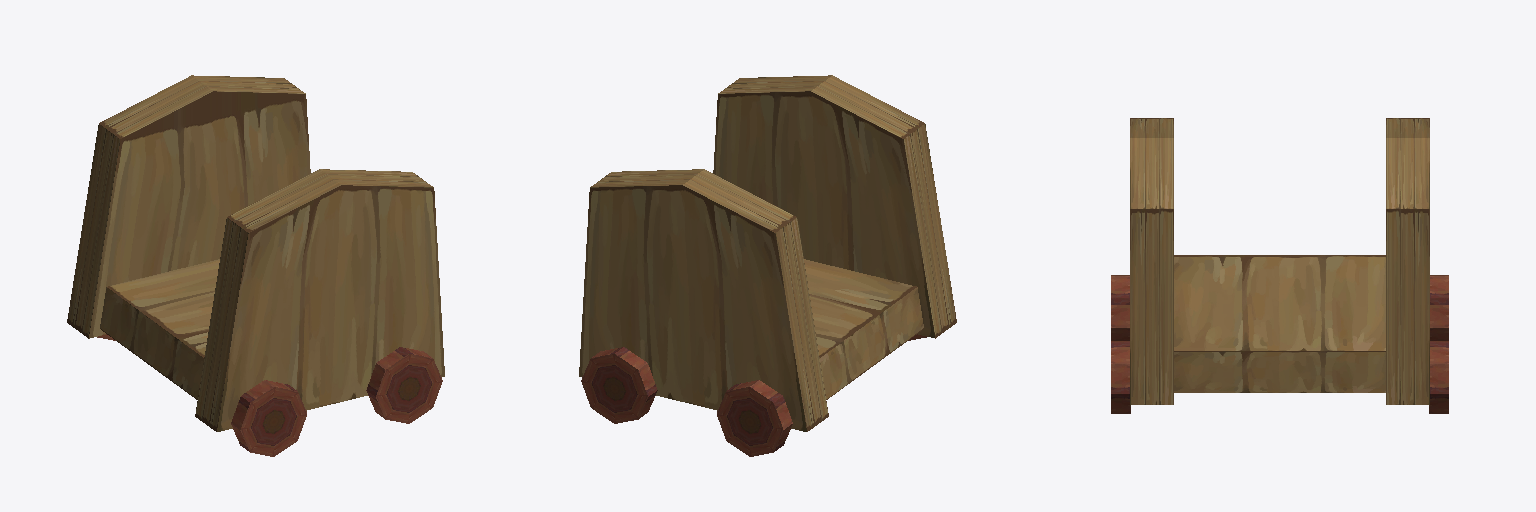
3 views of the same model, side by side, from view 1: azimuth 30°, elevation 25°; view 2: azimuth 150°, elevation 25°; view 3: azimuth 270°, elevation 25° (orthographic).
Parts seen in each view (by area): view 1: mesh-0; view 2: mesh-0; view 3: mesh-0.
Part boxes in pixels (left/top/right/bottom): mesh-0: left=67, top=75, right=444, bottom=456; mesh-0: left=579, top=75, right=956, bottom=456; mesh-0: left=1111, top=118, right=1448, bottom=413.
Bounding box in the file's own units: 1.23 × 1.27 × 1.57.
1 materials, 1 textured.